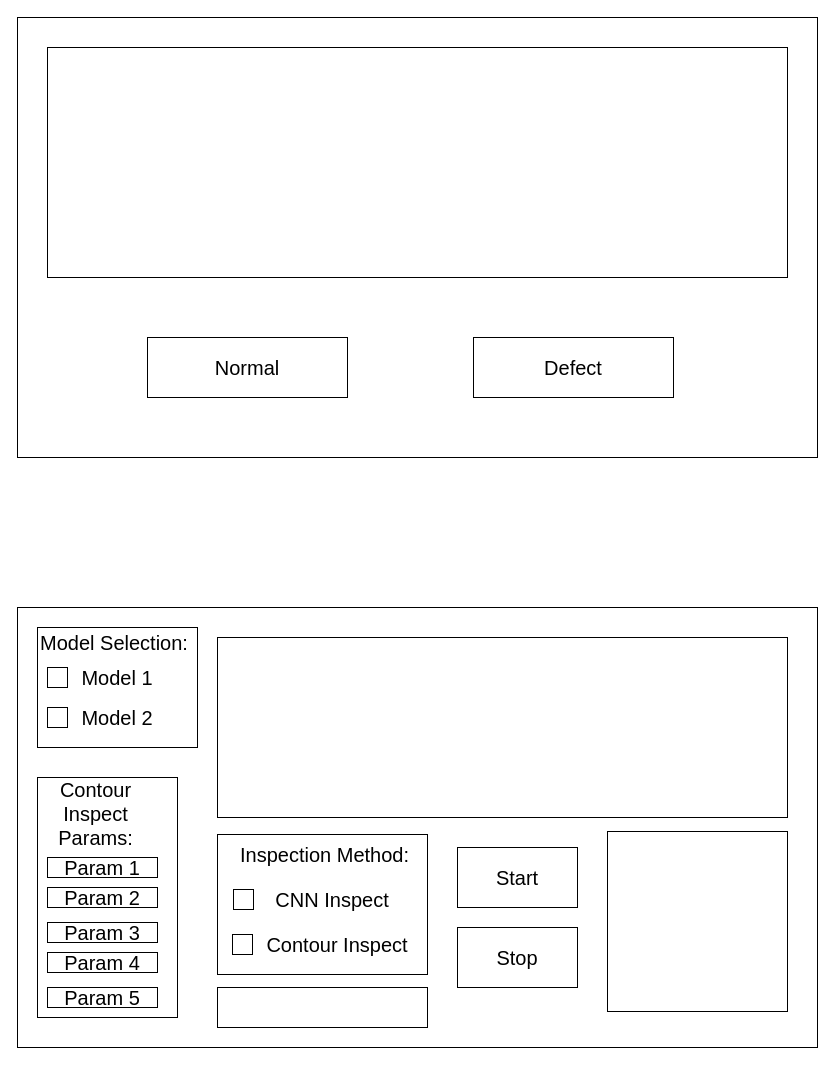
Some shapes in this 835 by 1065 pixel diagram are drawn without their labels. The box of each missing label's shape, as (x1, y1, x2, y2) in pixels:
Image Containg Defect: (216, 636, 788, 818)
Image Of Fabric: (46, 46, 788, 278)
Import Images: (216, 986, 428, 1028)
Zoomed In Defect: (606, 830, 788, 1012)
